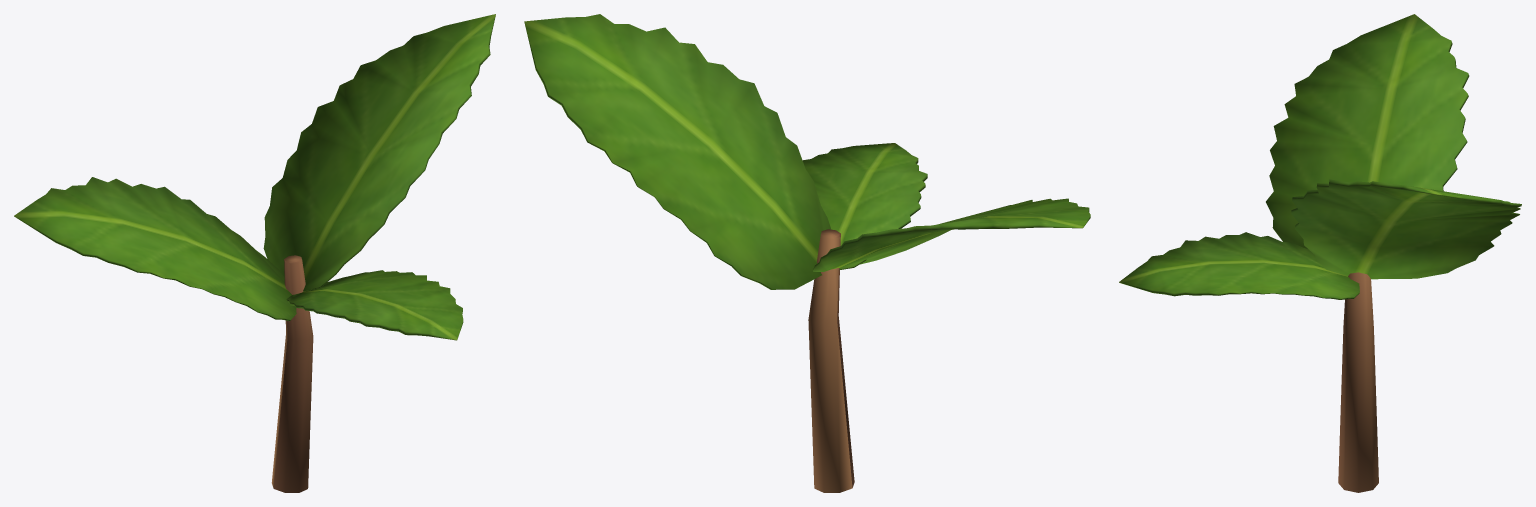
File: NP_Raspberry_Sprout.fbx
3 renders of one model, left to right at view 1: azimuth 30°, elevation 25°; view 2: azimuth 150°, elevation 25°; view 3: azimuth 270°, elevation 25°, orthographic. The views are drawn at different scales.
Visible parts, largest first — view 1: NP_Raspberry_Sprout; view 2: NP_Raspberry_Sprout; view 3: NP_Raspberry_Sprout.
Boxes of the visible parts, x1,y1,x2,y2 form: NP_Raspberry_Sprout: [14, 14, 495, 492]; NP_Raspberry_Sprout: [524, 14, 1090, 492]; NP_Raspberry_Sprout: [1119, 14, 1521, 492].
Size of the model in its own units: 30.17 by 22.65 by 19.78.
Materials: 1 (1 with a texture image).
